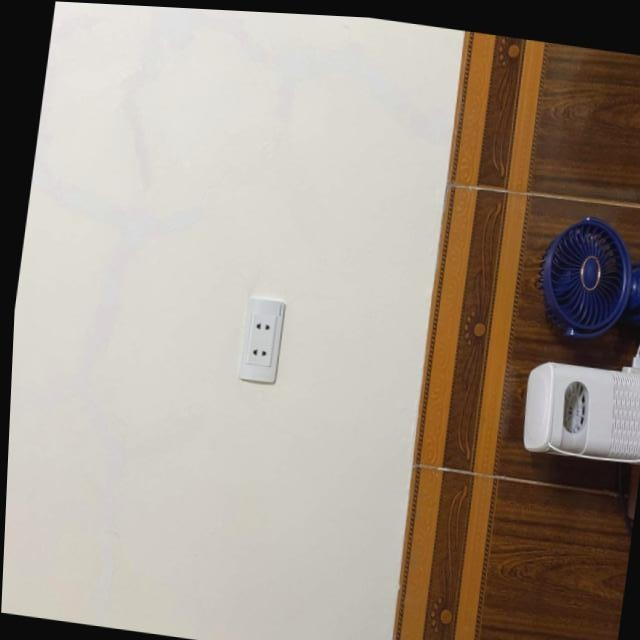outlet: (236, 296, 286, 387)
